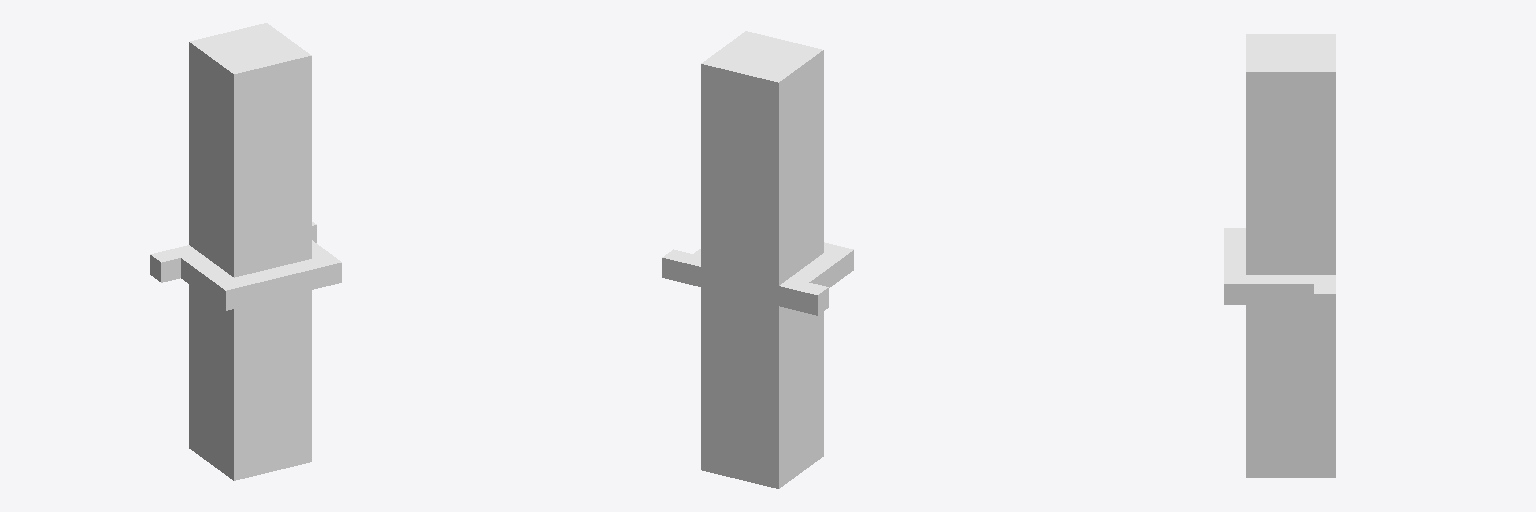
Rendered from pipe_20.obj.
3 views of the same model, side by side, from view 1: azimuth 30°, elevation 25°; view 2: azimuth 150°, elevation 25°; view 3: azimuth 270°, elevation 25° (orthographic).
Visible parts, largest first — view 1: object 1; view 2: object 1; view 3: object 1.
Boxes of the visible parts, x1=… form: object 1: x1=150, y1=23, x2=341, y2=480; object 1: x1=662, y1=31, x2=853, y2=488; object 1: x1=1224, y1=34, x2=1335, y2=477.
Size of the model in its own units: 0.8 by 2 by 0.5.